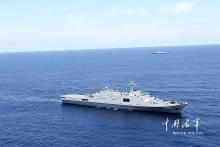warship: (55, 78, 195, 113)
